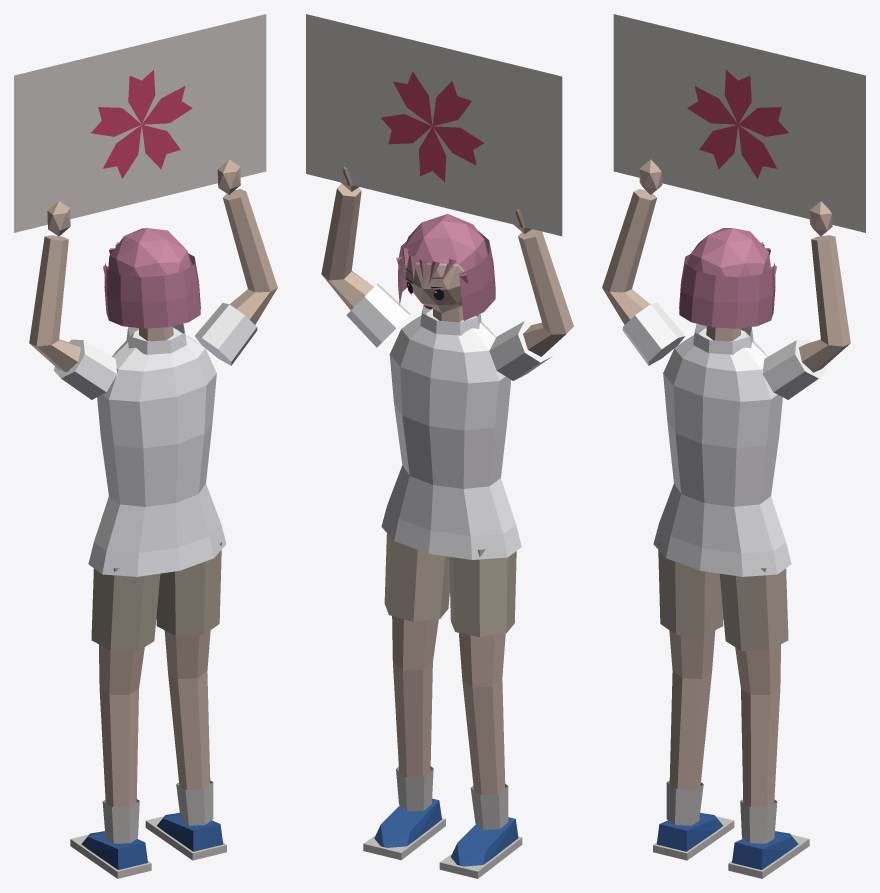
File: spectator_k.glb
3 renders of one model, left to right at view 1: azimuth 30°, elevation 25°; view 2: azimuth 150°, elevation 25°; view 3: azimuth 330°, elevation 25°, orthographic.
Visible parts, largest first — view 1: spectator_k; view 2: spectator_k; view 3: spectator_k.
Part boxes in pixels (box(x1,y1,x2,y2)): spectator_k: box(14, 14, 277, 878); spectator_k: box(306, 14, 573, 878); spectator_k: box(602, 14, 865, 878).
Bounding box in the file's own units: 0.7378 × 2.23 × 0.2695.
